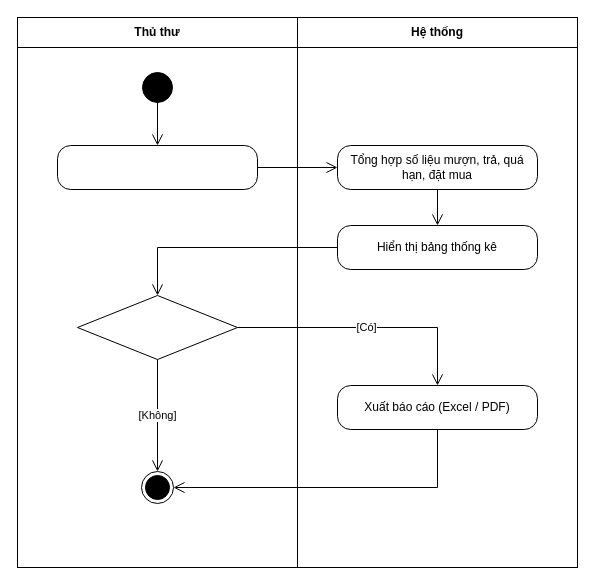
This 595x585 diagram has some shape labels left out. The centre of each missing label's shape, as x and y in pixels:
"Chọn loại báo cáo và khoảng thời gian" belongs at point 157,167.
"In / xuất file?" belongs at point 157,327.
